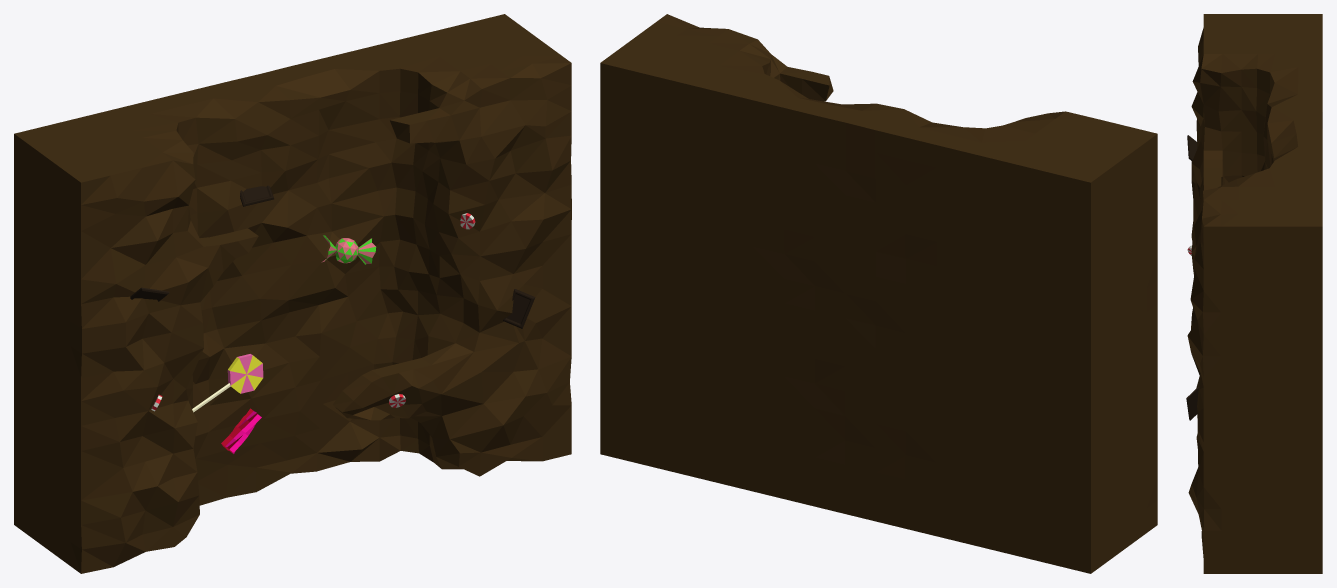
The model's file is level_Module_02.fbx.
The picture shows the model from 3 angles, left to right: view 1: azimuth 30°, elevation 25°; view 2: azimuth 150°, elevation 25°; view 3: azimuth 270°, elevation 25°; orthographic projection. The views are drawn at different scales.
Parts seen in each view (by area): view 1: Cube, Cylinder, Candy, Circle.003, Cube.002; view 2: Cube; view 3: Cube, Cube.002, Cube.003.
Part boxes in pixels (x1=…): Cube: x1=14, y1=14, x2=571, y2=573; Cylinder: x1=192, y1=354, x2=263, y2=412; Candy: x1=321, y1=235, x2=376, y2=264; Circle.003: x1=221, y1=408, x2=261, y2=453; Cube.002: x1=503, y1=289, x2=535, y2=328; Cube: x1=600, y1=14, x2=1157, y2=573; Cube: x1=1187, y1=14, x2=1322, y2=573; Cube.002: x1=1186, y1=386, x2=1198, y2=420; Cube.003: x1=1187, y1=135, x2=1197, y2=160.
Bounding box in the file's own units: 2100 × 1600 × 569.
